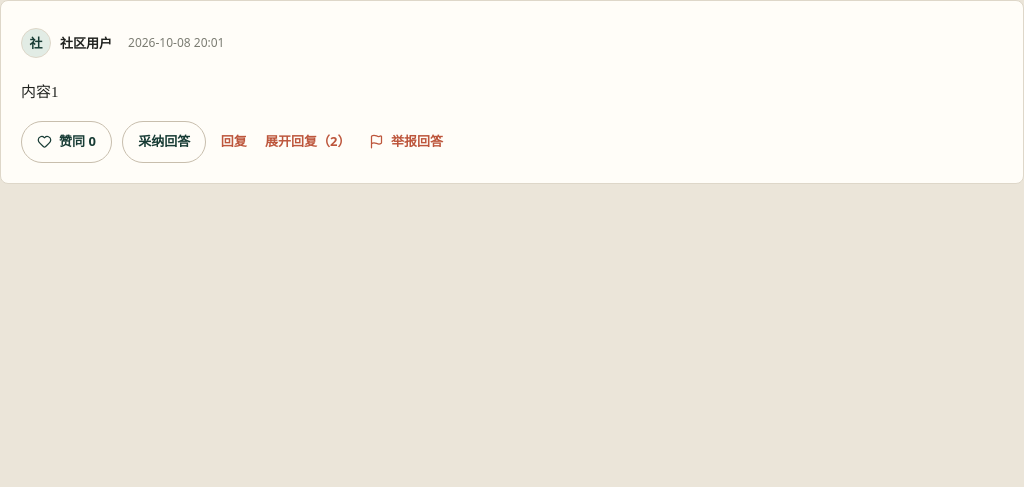
Test: 回答互动与两层回复 › uses chronological children and never gives children like or adoption controls
This screenshot has width=1024, height=487.
Click the button "展开回复（2）" at (308, 142), box x1=261 y1=128 x2=354 y2=155
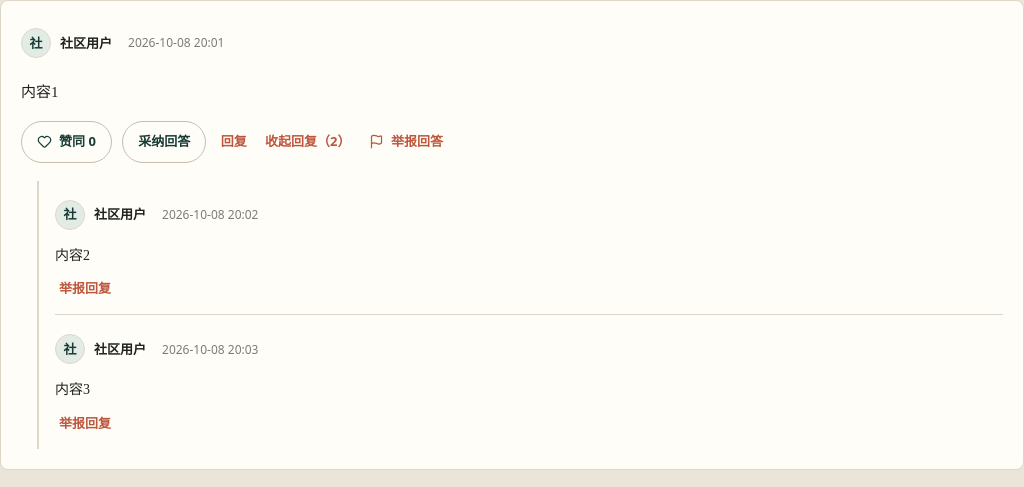
Click the button "收起回复（2）" at (308, 142), box x1=261 y1=128 x2=354 y2=155
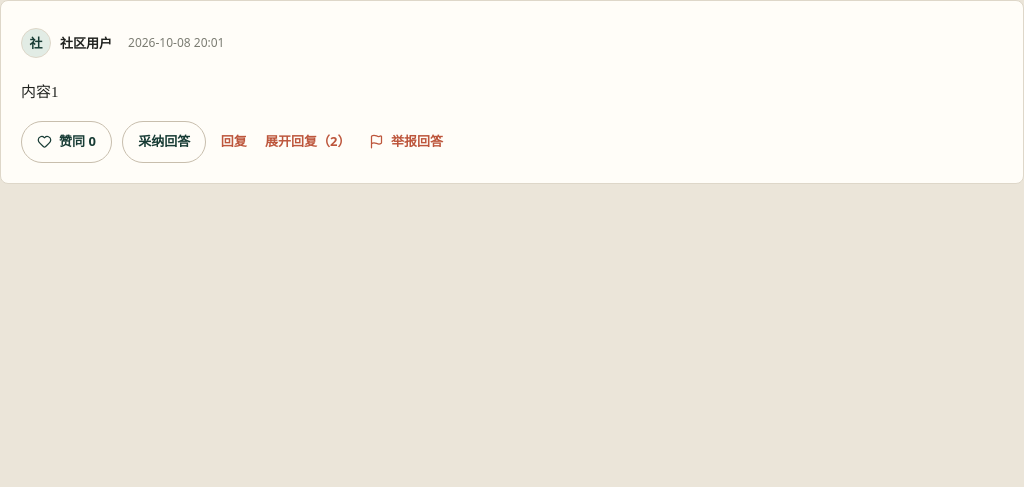
Check: the text "内容2" is gone
